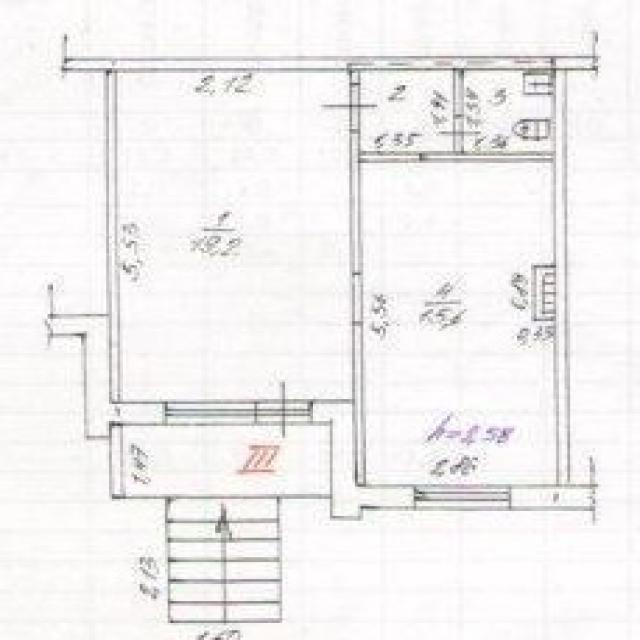Bathrooms: (467, 72, 553, 151)
Corridors: (124, 425, 329, 496), (362, 71, 452, 151)
Doors: (256, 379, 312, 441), (319, 83, 379, 132), (437, 114, 484, 154), (358, 151, 419, 162), (353, 273, 362, 324)
LBwalls: (62, 27, 602, 78), (42, 281, 164, 439), (309, 398, 415, 521), (511, 453, 599, 528)
Offices: (119, 73, 350, 399), (362, 161, 556, 485)
Stairs: (165, 497, 284, 623)
Walls: (533, 70, 571, 485), (106, 70, 119, 403), (355, 323, 365, 486), (350, 132, 361, 273), (419, 152, 555, 161), (111, 424, 123, 497), (452, 69, 465, 114), (350, 69, 359, 83)
Windows: (414, 483, 512, 511), (165, 401, 256, 425)
